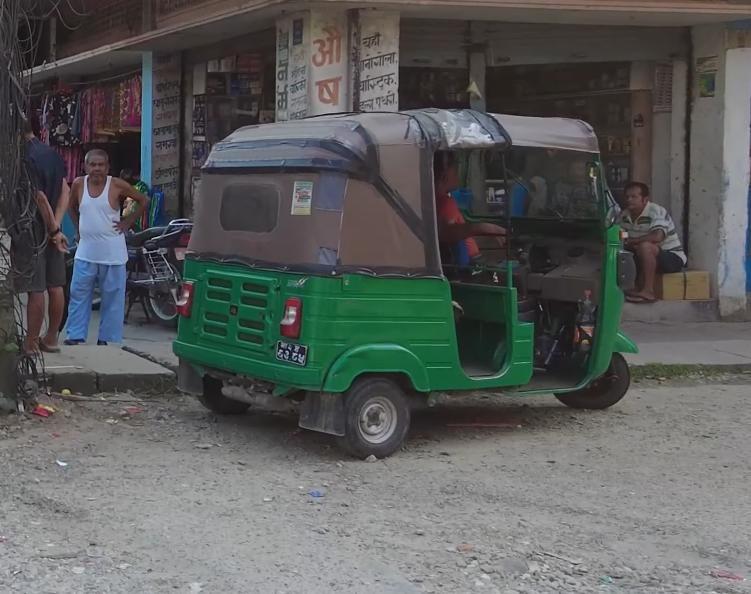auto_rickshaw: (162, 99, 645, 467)
